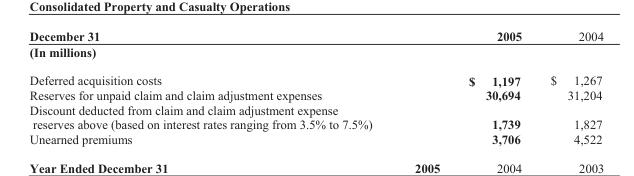table: (28, 28, 603, 145)
table column: (28, 28, 419, 145), (419, 28, 535, 145), (535, 28, 603, 145)
table column header: (28, 28, 603, 43)
table projected row header: (28, 43, 603, 65), (28, 102, 603, 116)
table row: (28, 43, 603, 65), (28, 65, 603, 87), (28, 28, 603, 43), (28, 87, 603, 102), (28, 116, 603, 131), (28, 102, 603, 116), (28, 131, 603, 145)
